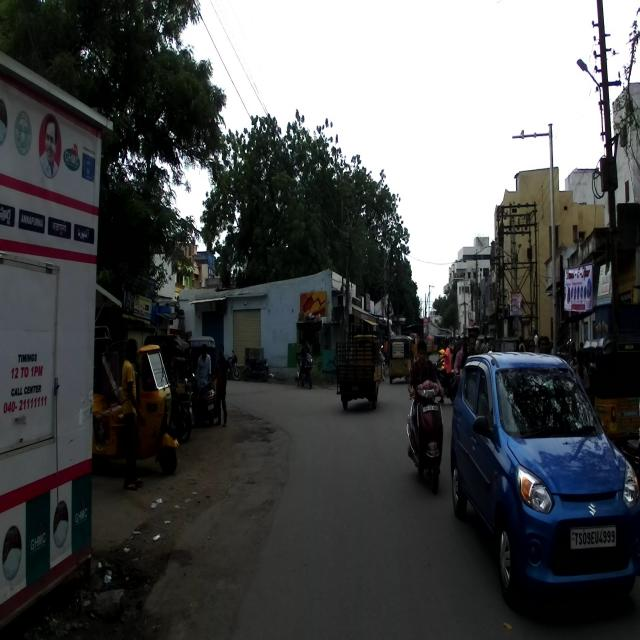autorickshaw: (93, 322, 180, 478), (582, 331, 639, 454)
car: (450, 350, 640, 615)
scooter: (406, 379, 446, 494)
